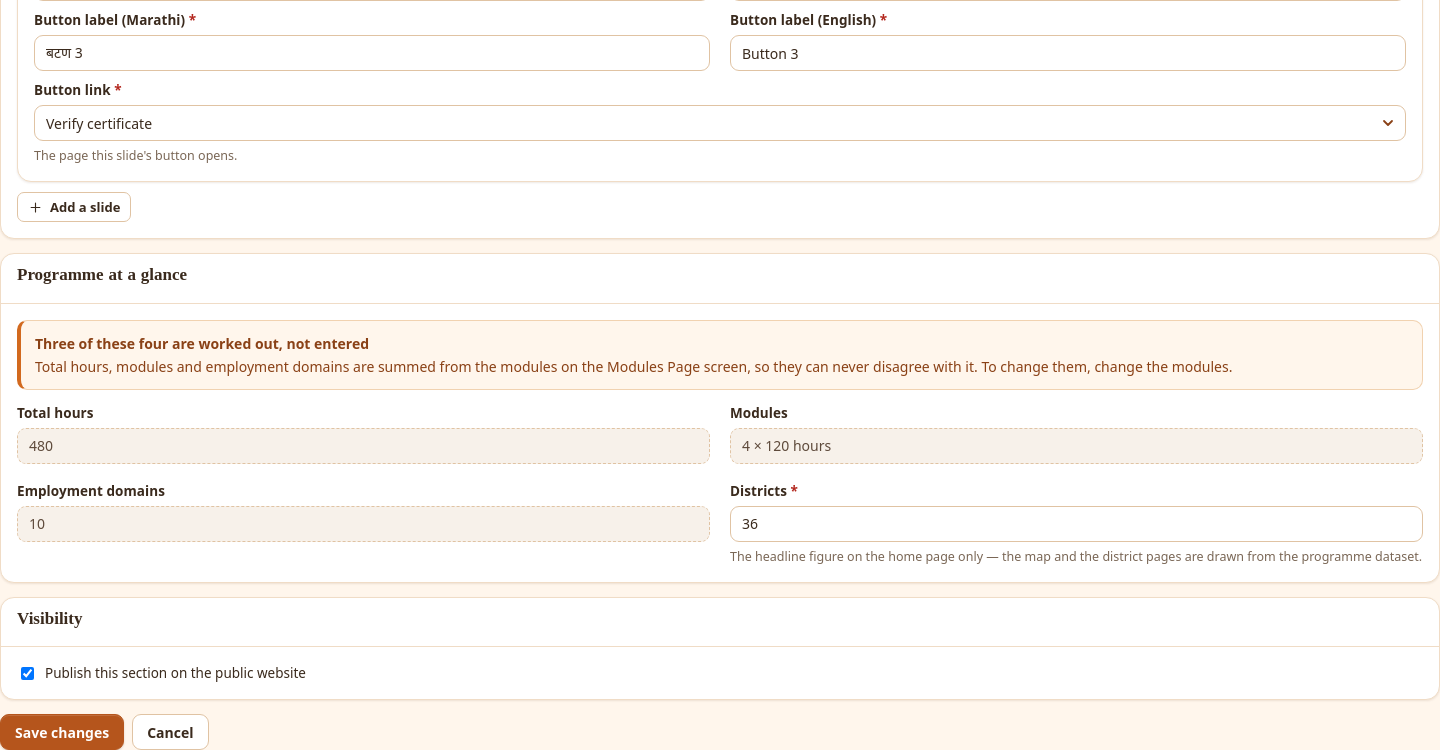
Home Hero Section CMS › form › names text over the server limits and a link that leaves the site
(page scrolled)
Click the button "Save changes". click: coordinates (62, 732)
box: [0,714,124,749]
(page scrolled)
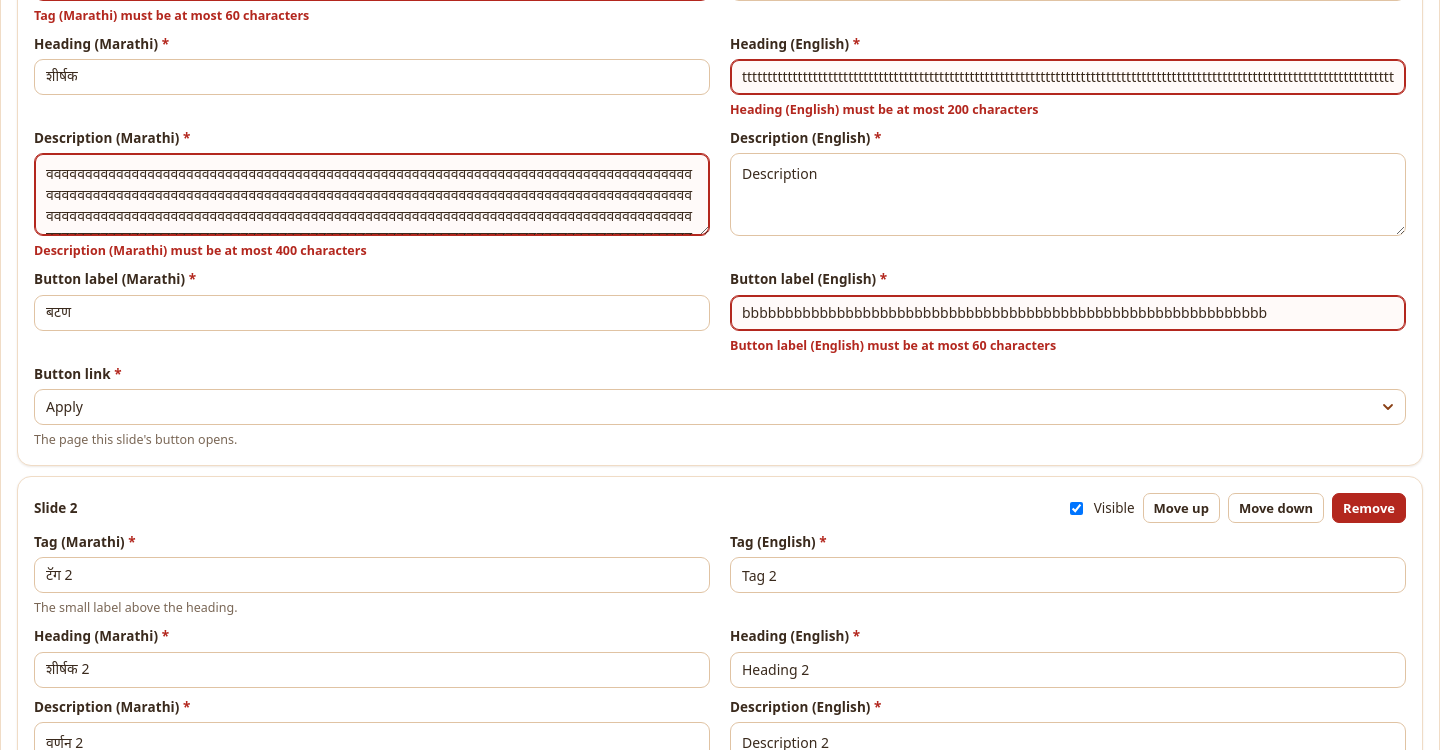
Result: the text "Tag (Marathi) must be at most 60 characters" is shown at [34,7,309,24]
Result: the text "Heading (English) must be at most 200 characters" is shown at [730,101,1038,118]
Result: the text "Description (Marathi) must be at most 400 characters" is shown at [34,242,367,259]
